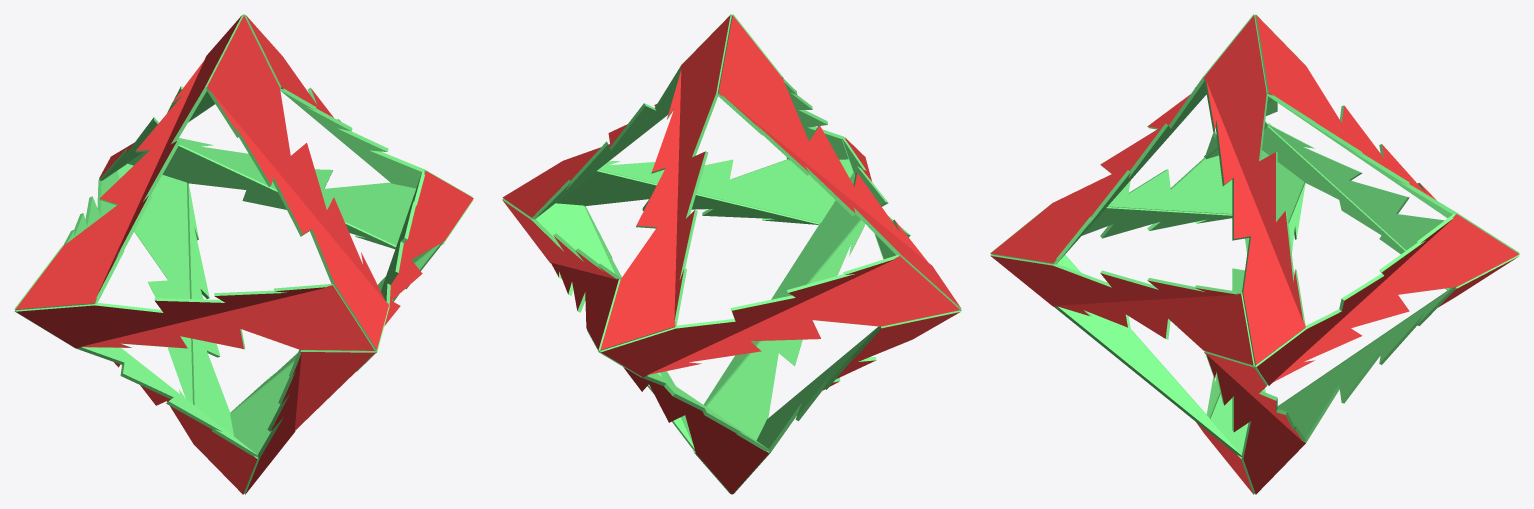
Rendered from Octahedron2.glb.
3 renders of one model, left to right at view 1: azimuth 30°, elevation 25°; view 2: azimuth 150°, elevation 25°; view 3: azimuth 270°, elevation 25°, orthographic.
Visible parts, largest first — view 1: root; view 2: root; view 3: root.
Part boxes in pixels (x1,y1,x2,y2): root: [14, 14, 473, 494]; root: [502, 14, 961, 494]; root: [990, 14, 1519, 494].
Bounding box in the file's own units: 1.42 × 1.42 × 1.42.
